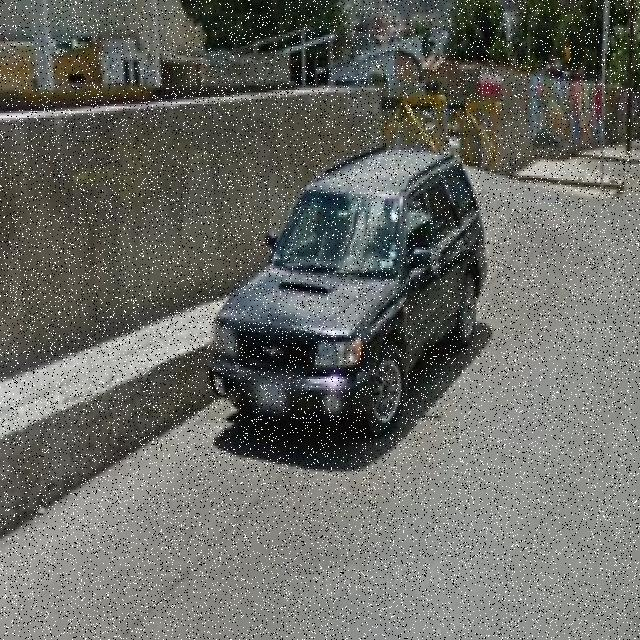cars: (214, 137, 490, 436)
